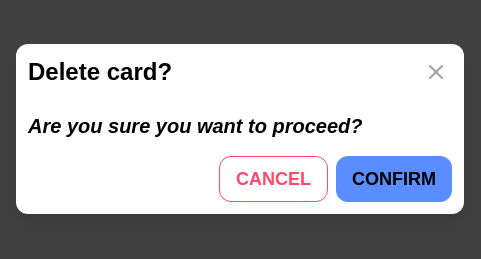
it: components/retro-board/retro-board-header/phase-indicators/use-chosen-facilitator-prompts › waits for a confirmation already on screen before offering Start Discussions
Expected: the text "Delete card?" is shown, [28,56,172,88]
Click the button "Cancel": click(274, 179) [219,156,328,202]
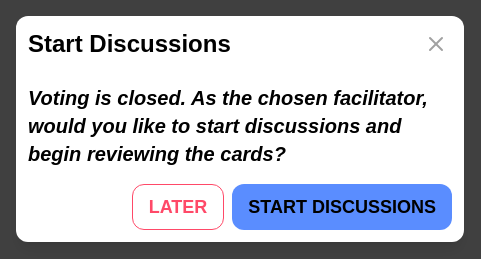
Now the text "Voting is closed. As the chosen facilitator, would you like to start discussions and begin reviewing the cards?" is shown, box [28,87,428,165]
